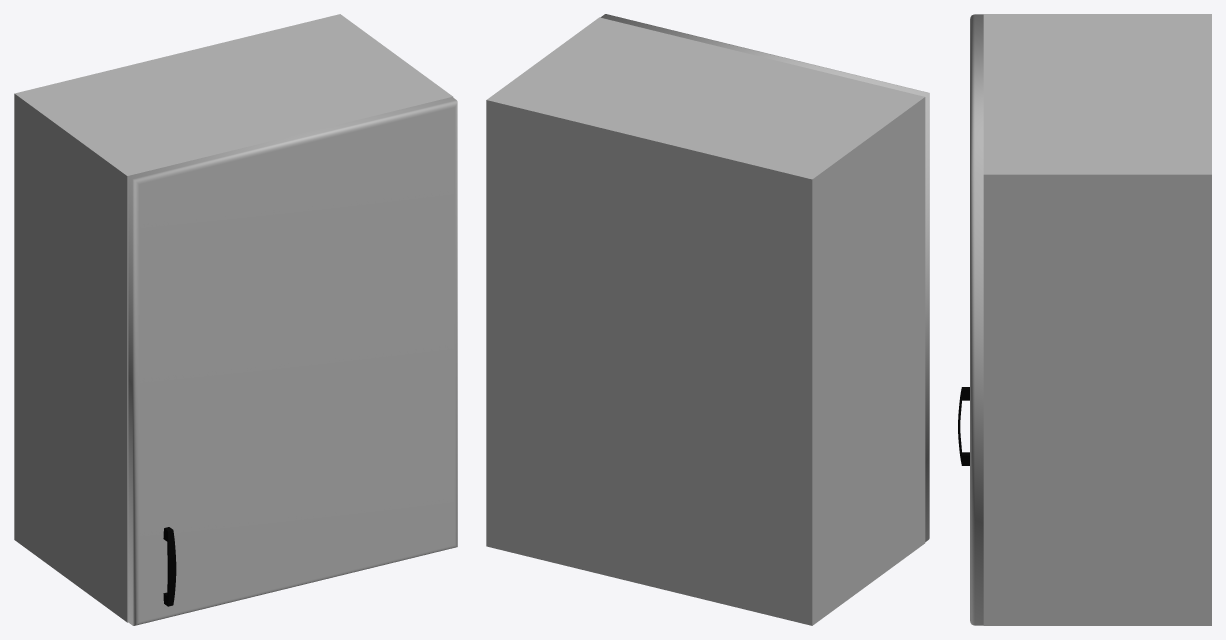
3 views of the same model, side by side, from view 1: azimuth 30°, elevation 25°; view 2: azimuth 150°, elevation 25°; view 3: azimuth 270°, elevation 25° (orthographic).
Visible parts, largest first — view 1: Box011, Box001, Obj3d66-503491-2-344; view 2: Box001, Box011; view 3: Box001, Box011, Obj3d66-503491-2-344.
Boxes of the visible parts, <box> form: Box011: <box>128,97,457,625</box>; Box001: <box>14,14,452,622</box>; Obj3d66-503491-2-344: <box>163,527,176,606</box>; Box001: <box>486,17,925,625</box>; Box011: <box>600,14,929,541</box>; Box001: <box>983,14,1211,625</box>; Box011: <box>970,14,983,625</box>; Obj3d66-503491-2-344: <box>958,387,969,465</box>.
Bounding box in the file's own units: 0.55 × 0.72 × 0.3671.
2 materials, 1 textured.
